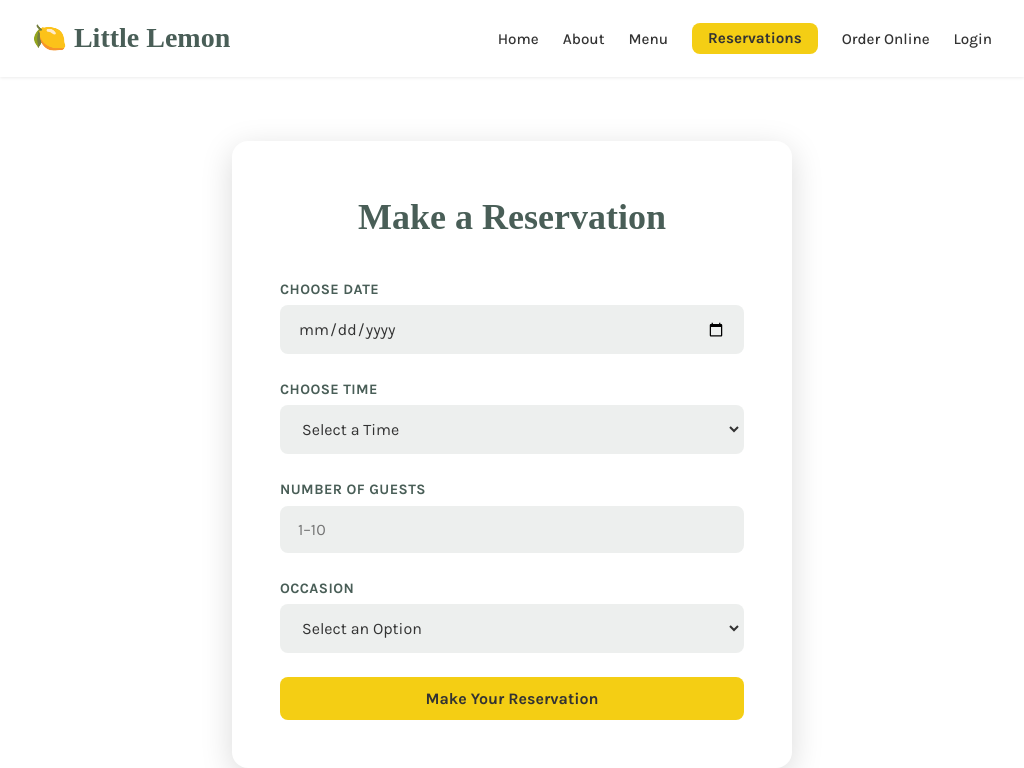
Test case: BookingForm — validation › shows guest error when guests value exceeds 10
Type "11" into the number field labelled "Number of Guests" at point(512, 529), box 280,506 -> 744,552
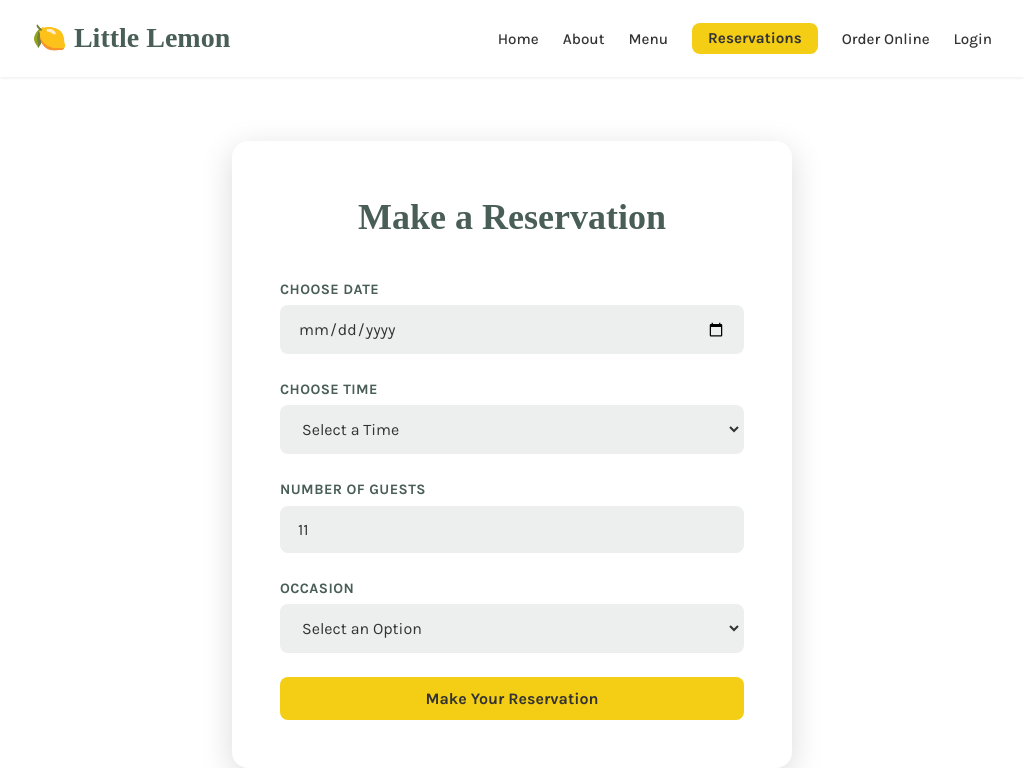
Click the button "Make Your Reservation" at point(512, 698), box 280,677 -> 744,720
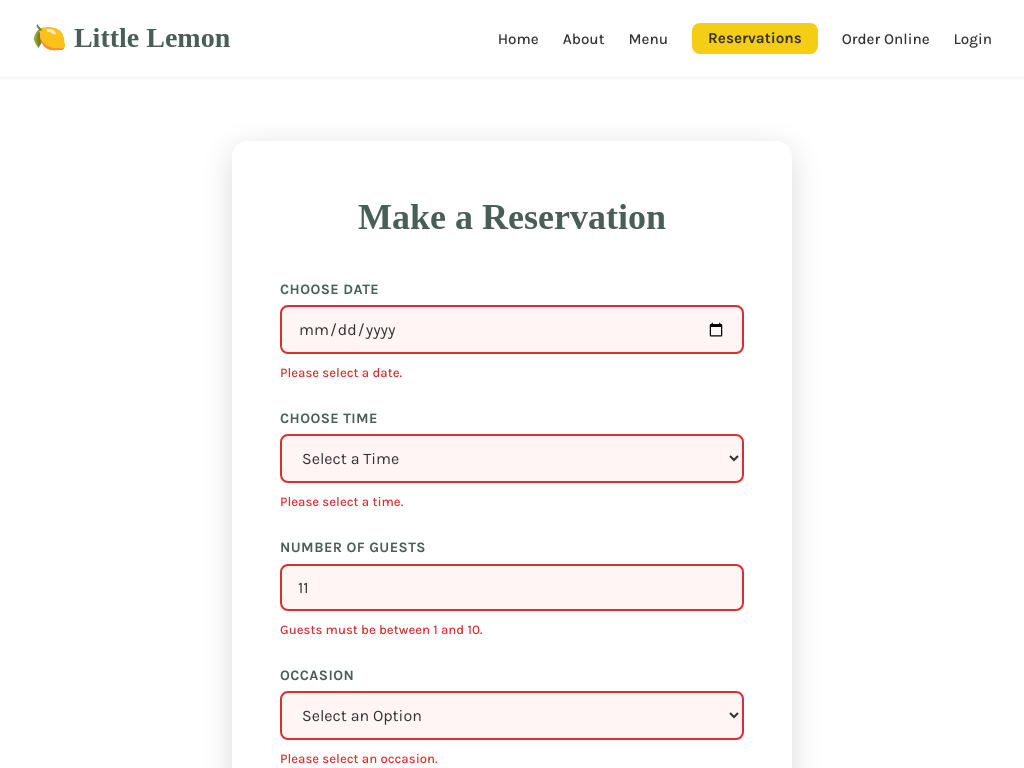
expect the text "Guests must be between 1 and 10." is shown: met, box 280,622 -> 482,636
